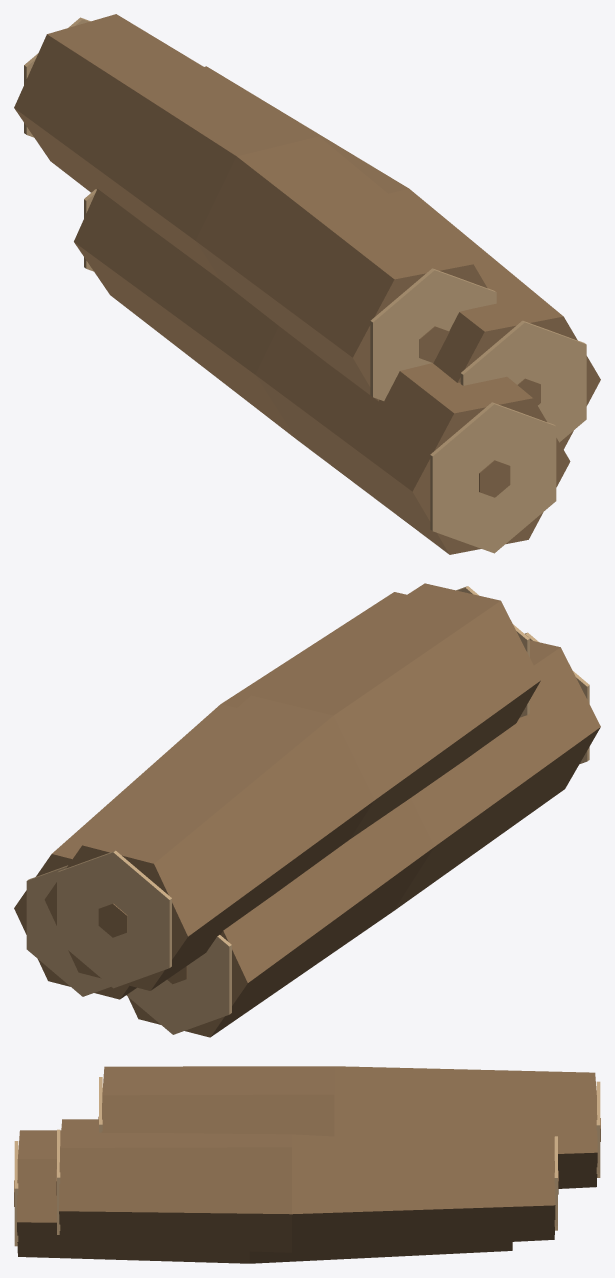
The model's file is item_000_log_m.glb.
3 views of the same model, one above another, from view 1: azimuth 30°, elevation 25°; view 2: azimuth 150°, elevation 25°; view 3: azimuth 270°, elevation 25° (orthographic). The views are drawn at different scales.
Visible parts, largest first — view 1: item_000_log_m; view 2: item_000_log_m; view 3: item_000_log_m.
Boxes of the visible parts, x1,y1,x2,y2 form: item_000_log_m: (14,14,600,554); item_000_log_m: (14,583,600,1037); item_000_log_m: (14,1066,600,1263).
Size of the model in its own units: 0.2661 by 0.2656 by 0.834.
